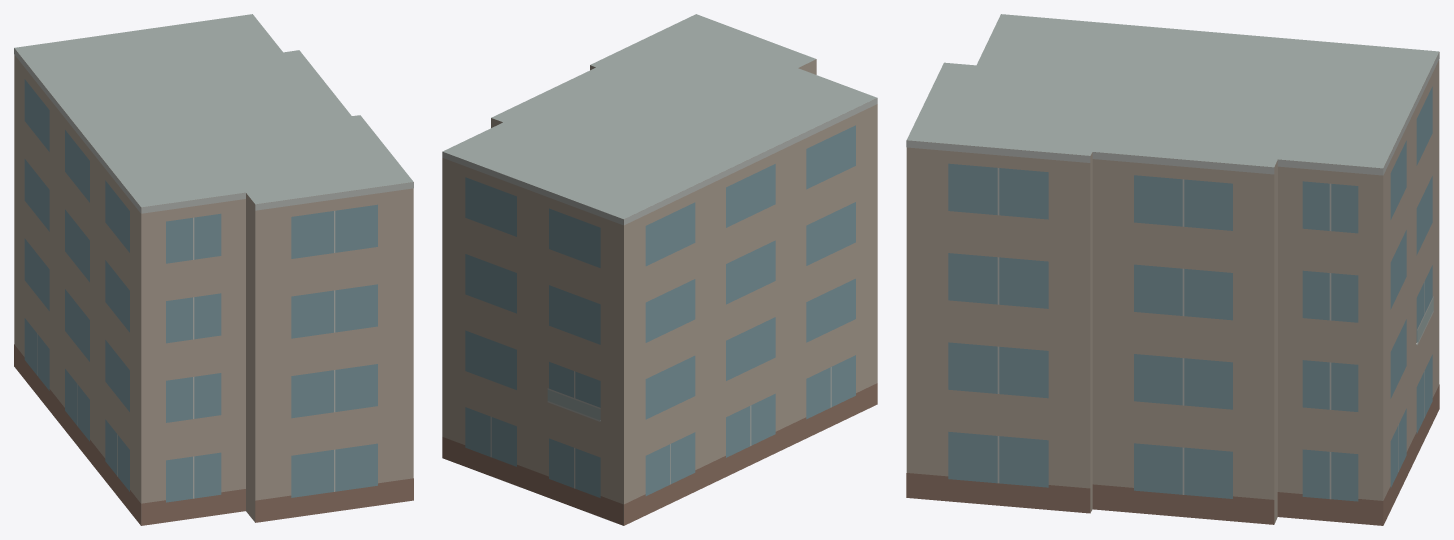
The model's file is survey-upis-32806178.glb.
3 renders of one model, left to right at view 1: azimuth 30°, elevation 25°; view 2: azimuth 150°, elevation 25°; view 3: azimuth 270°, elevation 25°, orthographic. The views are drawn at different scales.
Parts seen in each view (by area): view 1: survey-upis-32806178.tmp; view 2: survey-upis-32806178.tmp; view 3: survey-upis-32806178.tmp.
Part boxes in pixels (bbox=[...]): survey-upis-32806178.tmp: bbox=[14, 14, 413, 525]; survey-upis-32806178.tmp: bbox=[442, 14, 877, 525]; survey-upis-32806178.tmp: bbox=[906, 14, 1439, 525].
Size of the model in its own units: 11.31 by 12.2 by 16.5.
